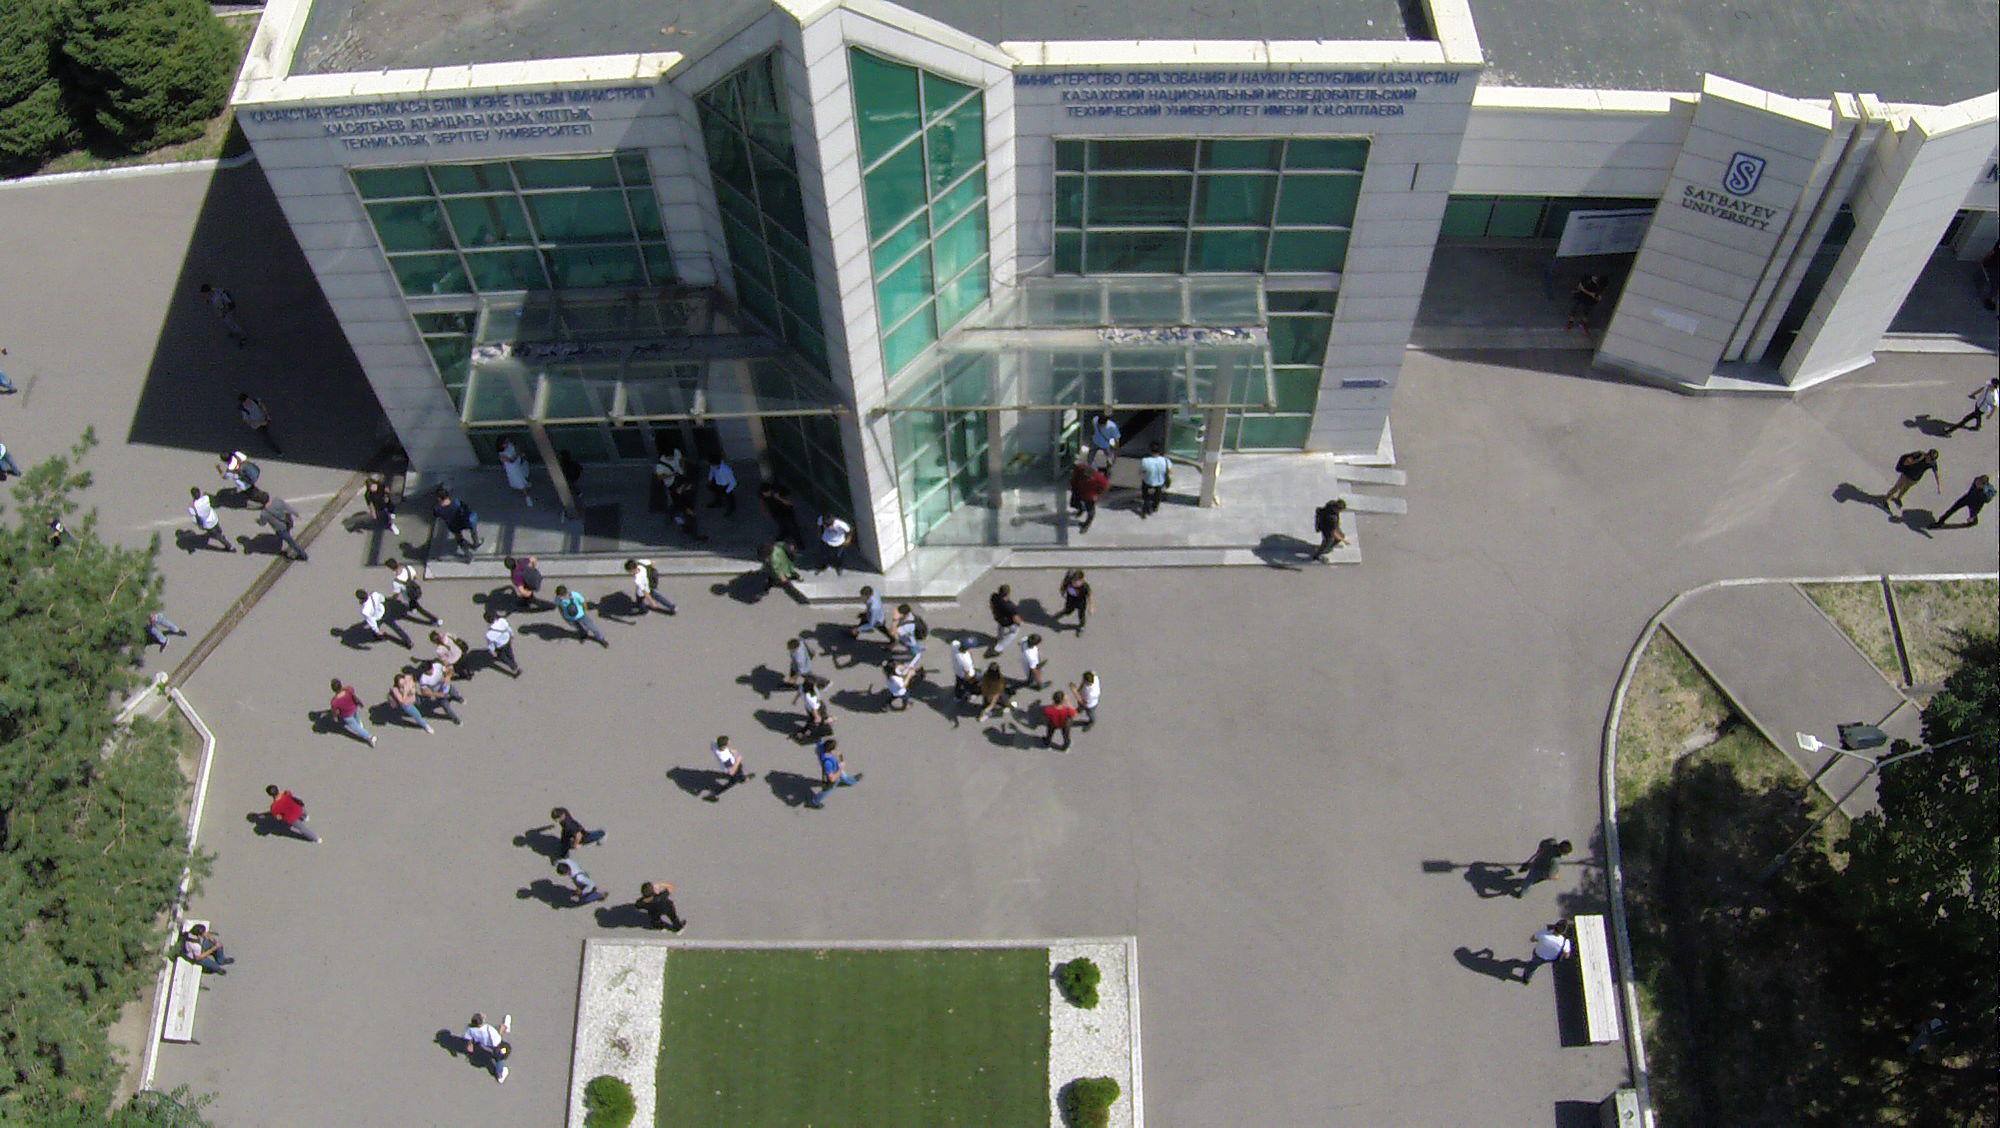person: (1510, 917, 1576, 985), (353, 581, 414, 655), (1514, 834, 1573, 908), (438, 483, 488, 571), (255, 487, 309, 566), (386, 556, 443, 629), (464, 1010, 518, 1088), (175, 481, 232, 552), (175, 919, 239, 983), (327, 675, 380, 749), (706, 735, 758, 810), (261, 784, 325, 844), (1045, 565, 1097, 637), (1883, 446, 1938, 515), (626, 551, 678, 622), (1934, 473, 2000, 529), (555, 581, 609, 650), (813, 739, 864, 808), (1063, 460, 1109, 537), (634, 877, 690, 939), (420, 656, 465, 729), (982, 581, 1023, 662), (239, 385, 285, 457), (495, 437, 540, 508), (199, 283, 247, 347), (758, 481, 806, 543), (791, 679, 839, 740), (1136, 442, 1173, 522), (551, 804, 607, 856), (552, 859, 610, 910), (1949, 374, 2000, 431), (388, 672, 432, 738), (428, 619, 473, 685), (811, 510, 856, 573), (216, 449, 265, 507), (483, 606, 520, 681), (947, 634, 985, 706), (752, 540, 803, 594), (360, 474, 403, 538), (975, 662, 1018, 726), (1316, 496, 1353, 568), (1569, 265, 1605, 340), (788, 633, 836, 689), (853, 582, 893, 648), (884, 601, 928, 660), (505, 550, 543, 615), (875, 659, 919, 713), (668, 482, 705, 543), (1039, 694, 1076, 752), (1068, 671, 1103, 732), (1018, 631, 1052, 693), (710, 454, 741, 519), (655, 447, 688, 494), (1089, 421, 1123, 464)
